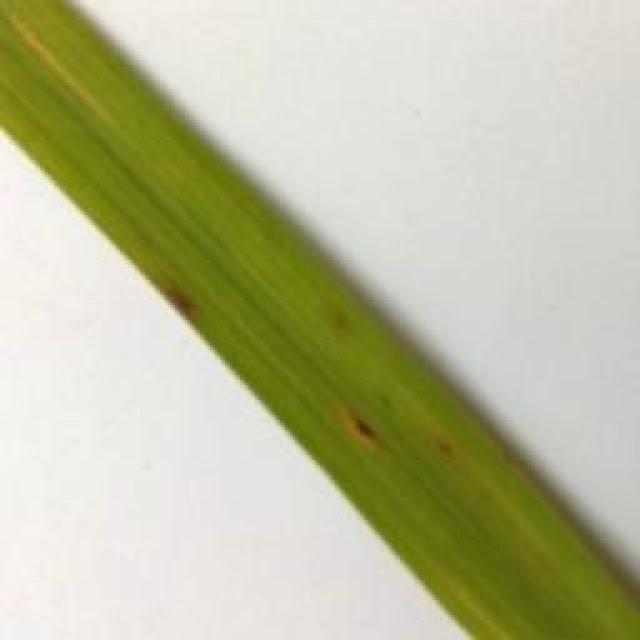Brown_Spot: (152, 274, 218, 337), (328, 390, 385, 460), (418, 432, 464, 460)
